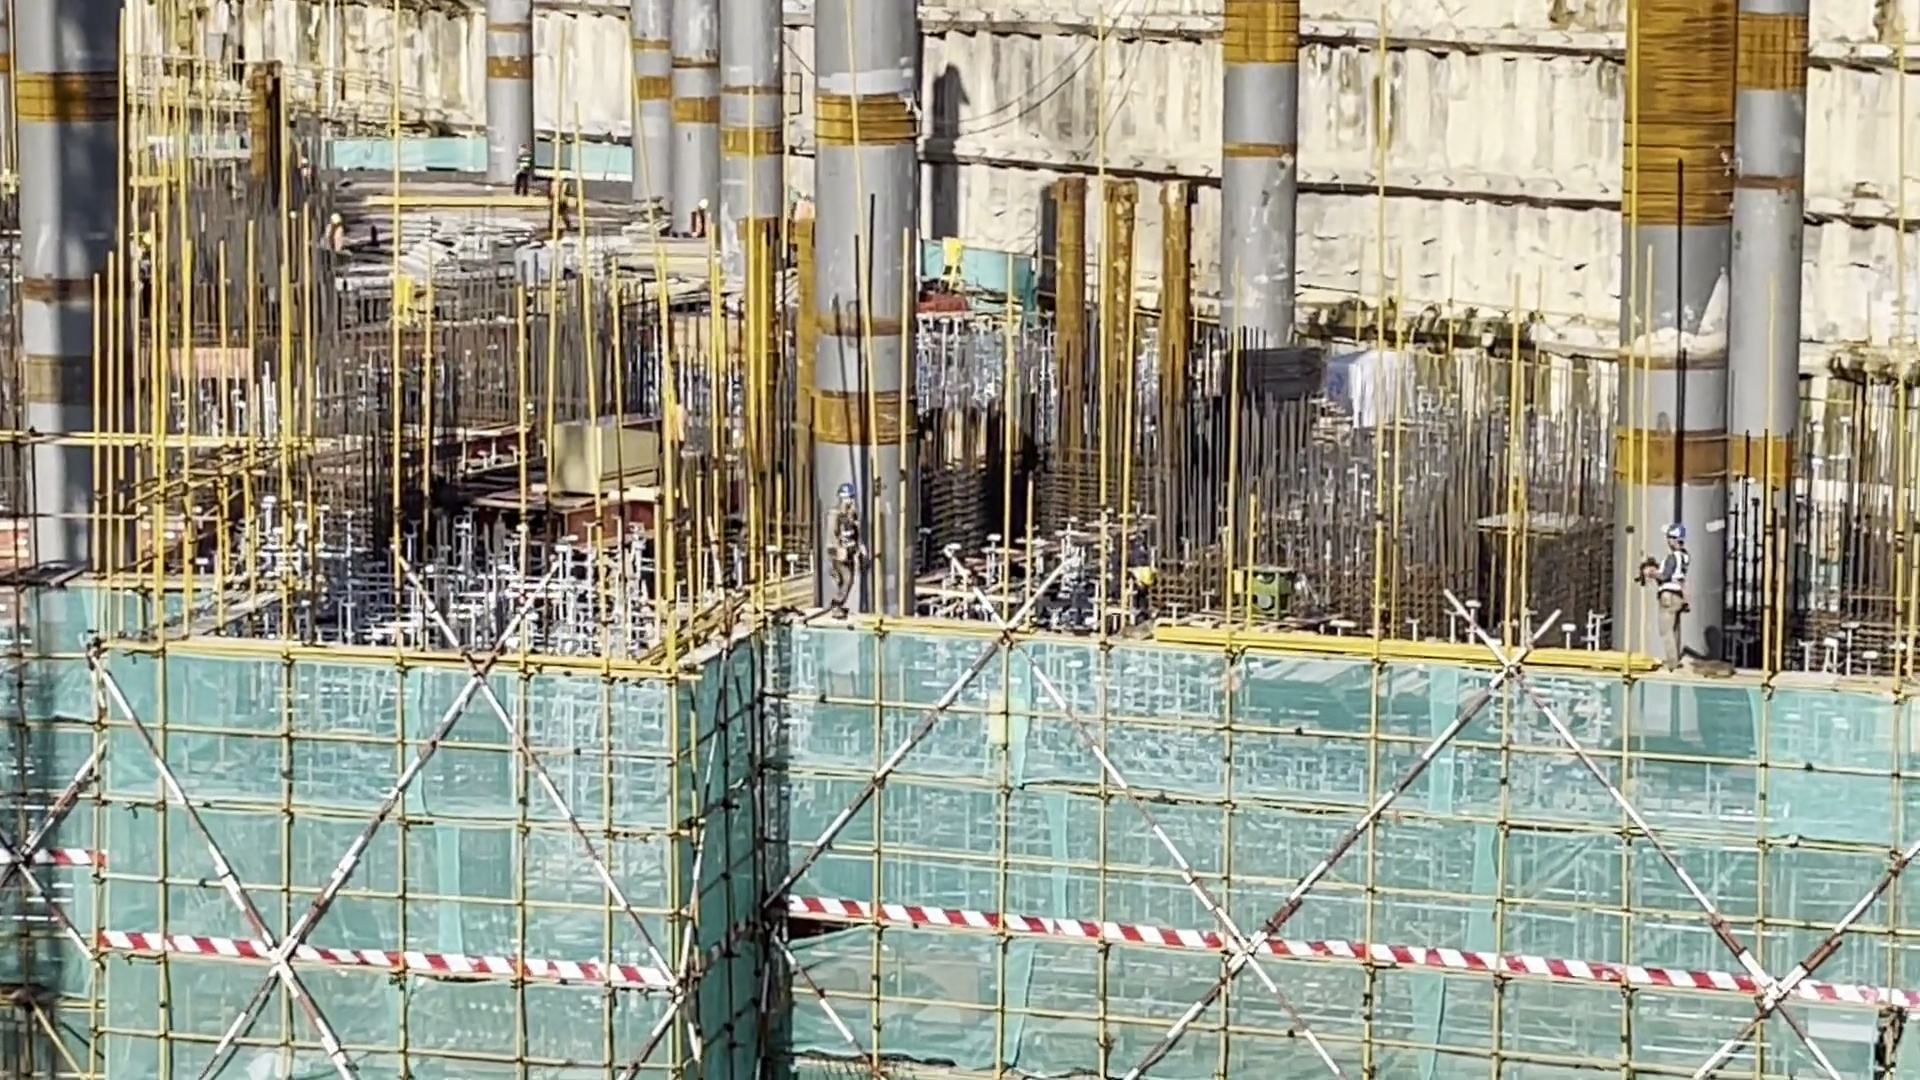helmet: (1669, 529, 1696, 554), (1136, 562, 1158, 589), (828, 479, 849, 497), (699, 196, 711, 213), (326, 213, 339, 227), (520, 142, 534, 154), (561, 178, 573, 187)
person: (819, 470, 876, 615), (1643, 523, 1693, 655), (1099, 553, 1169, 615), (534, 181, 578, 245), (513, 131, 539, 188), (326, 208, 348, 271), (688, 200, 714, 243)
vest: (829, 507, 863, 571), (1653, 551, 1694, 596), (549, 181, 571, 208), (327, 221, 346, 254), (692, 216, 711, 229), (517, 159, 531, 173)
